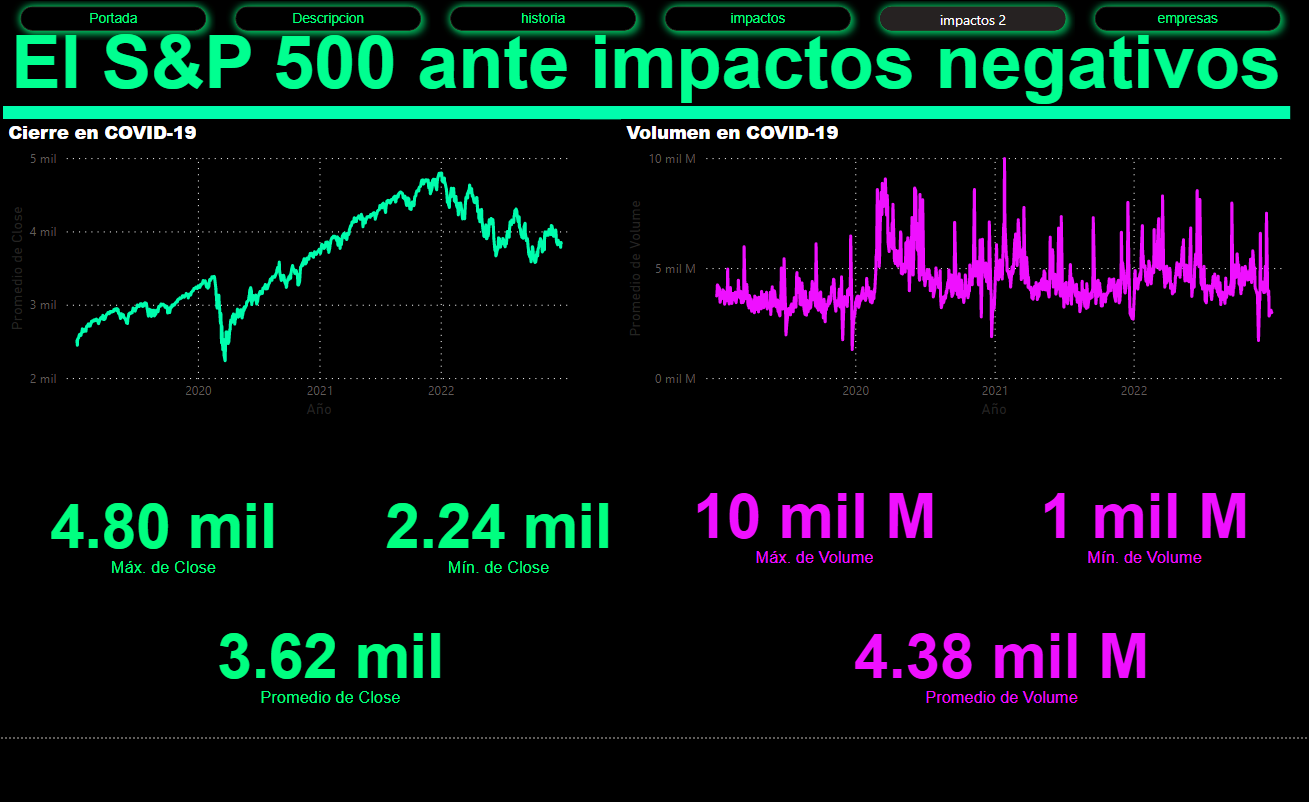

This screenshot's page, from the dashboard's own definition file:
{"tool":"powerbi","page":{"name":"impactos 2","canvas":[1280,720],"ordinal":4},"visuals":[{"type":"textbox","box":[9.7,17.5,1270.3,101.2],"z":0},{"type":"shape","box":[6.8,106,1251.8,12.6],"z":1000},{"type":"lineChart","title":"Cierre en COVID-19","fields":{"Category":["historia_gspc.Date.Variación.Jerarquía de fechas.Año","historia_gspc.Date.Variación.Jerarquía de fechas.Trimestre","historia_gspc.Date.Variación.Jerarquía de fechas.Mes","historia_gspc.Date.Variación.Jerarquía de fechas.Día"],"Y":["Avg(historia_gspc.Close)"]},"box":[6.8,118.7,561.2,294.7],"z":2000},{"type":"lineChart","title":"Volumen en COVID-19","fields":{"Category":["historia_gspc.Date.Variación.Jerarquía de fechas.Año","historia_gspc.Date.Variación.Jerarquía de fechas.Trimestre","historia_gspc.Date.Variación.Jerarquía de fechas.Mes","historia_gspc.Date.Variación.Jerarquía de fechas.Día"],"Y":["Avg(historia_gspc.Volume)"]},"box":[607.9,118.7,650.7,294.7],"z":3000},{"type":"card","fields":{"Values":["Max(historia_gspc.Close)"]},"box":[0,442.7,325.5,150.8],"z":4000},{"type":"card","fields":{"Values":["Min(historia_gspc.Close)"]},"box":[325.5,442.7,325.5,150.8],"z":5000},{"type":"card","fields":{"Values":["Max(historia_gspc.Volume)"]},"box":[632.8,433.1,325.5,150.8],"z":6000},{"type":"card","fields":{"Values":["Min(historia_gspc.Volume)"]},"box":[954.5,433.1,325.5,150.8],"z":7000},{"type":"card","fields":{"Values":["Avg(historia_gspc.Volume)"]},"box":[815.1,569,325.8,150.8],"z":8000},{"type":"card","fields":{"Values":["Avg(historia_gspc.Close)"]},"box":[162.4,569,325.8,150.8],"z":9000},{"type":"pageNavigator","box":[14.6,0,1249.8,42.8],"z":10000}]}

Visuals, with their boxes on the page's 1280x720 design canvas (x1, y1, x2, y2). These are canvas units, not pixel positions in the 1309x802 screenshot, which may show the page scaled, cropped or inside an application window:
textbox: (10, 18, 1280, 119)
shape: (7, 106, 1259, 119)
"Cierre en COVID-19" lineChart: (7, 119, 568, 413)
"Volumen en COVID-19" lineChart: (608, 119, 1259, 413)
card - Max(historia_gspc.Close): (0, 443, 326, 594)
card - Min(historia_gspc.Close): (326, 443, 651, 594)
card - Max(historia_gspc.Volume): (633, 433, 958, 584)
card - Min(historia_gspc.Volume): (954, 433, 1280, 584)
card - Avg(historia_gspc.Volume): (815, 569, 1141, 720)
card - Avg(historia_gspc.Close): (162, 569, 488, 720)
pageNavigator: (15, 0, 1264, 43)
